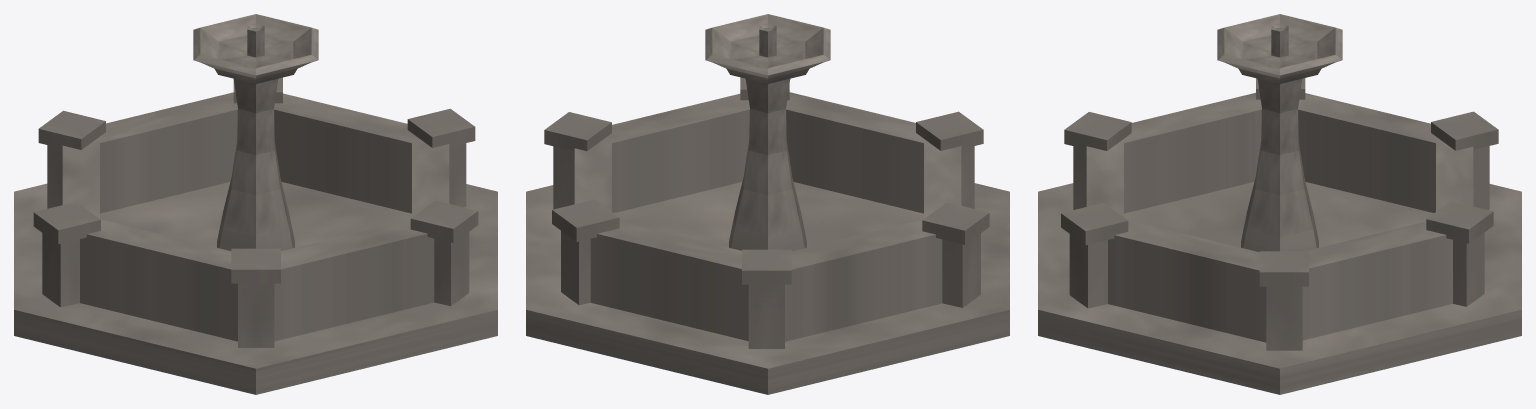
The model's file is Fountain.fbx.
The picture shows the model from 3 angles, left to right: view 1: azimuth 30°, elevation 25°; view 2: azimuth 150°, elevation 25°; view 3: azimuth 270°, elevation 25°; orthographic projection.
Visible parts, largest first — view 1: pCylinder3; view 2: pCylinder3; view 3: pCylinder3.
Boxes of the visible parts, x1,y1,x2,y2 form: pCylinder3: (14,14,497,394); pCylinder3: (526,14,1009,394); pCylinder3: (1038,14,1521,394).
Size of the model in its own units: 3.27 by 1.61 by 2.83.
